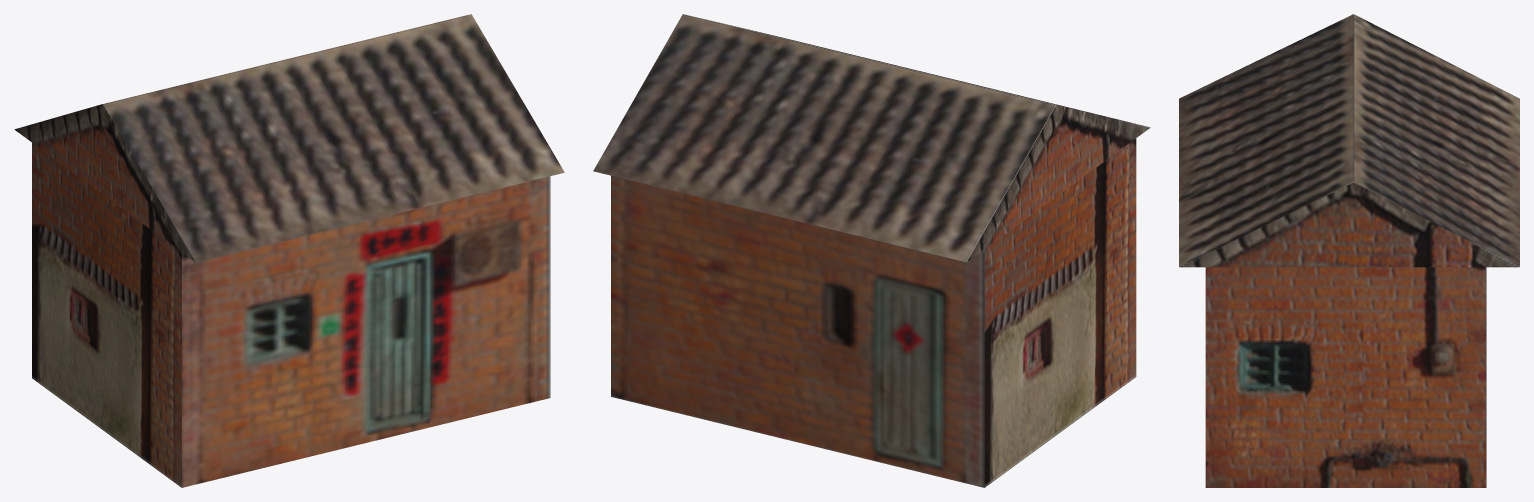
The model's file is RedBlock.fbx.
3 views of the same model, side by side, from view 1: azimuth 30°, elevation 25°; view 2: azimuth 150°, elevation 25°; view 3: azimuth 270°, elevation 25° (orthographic). The views are drawn at different scales.
Visible parts, largest first — view 1: Cube; view 2: Cube; view 3: Cube.
Part boxes in pixels (<box>): Cube: <box>14,14,564,487</box>; Cube: <box>593,14,1150,487</box>; Cube: <box>1179,14,1519,487</box>.
Size of the model in its own units: 722 by 610 by 617.
Materials: 1 (1 with a texture image).
